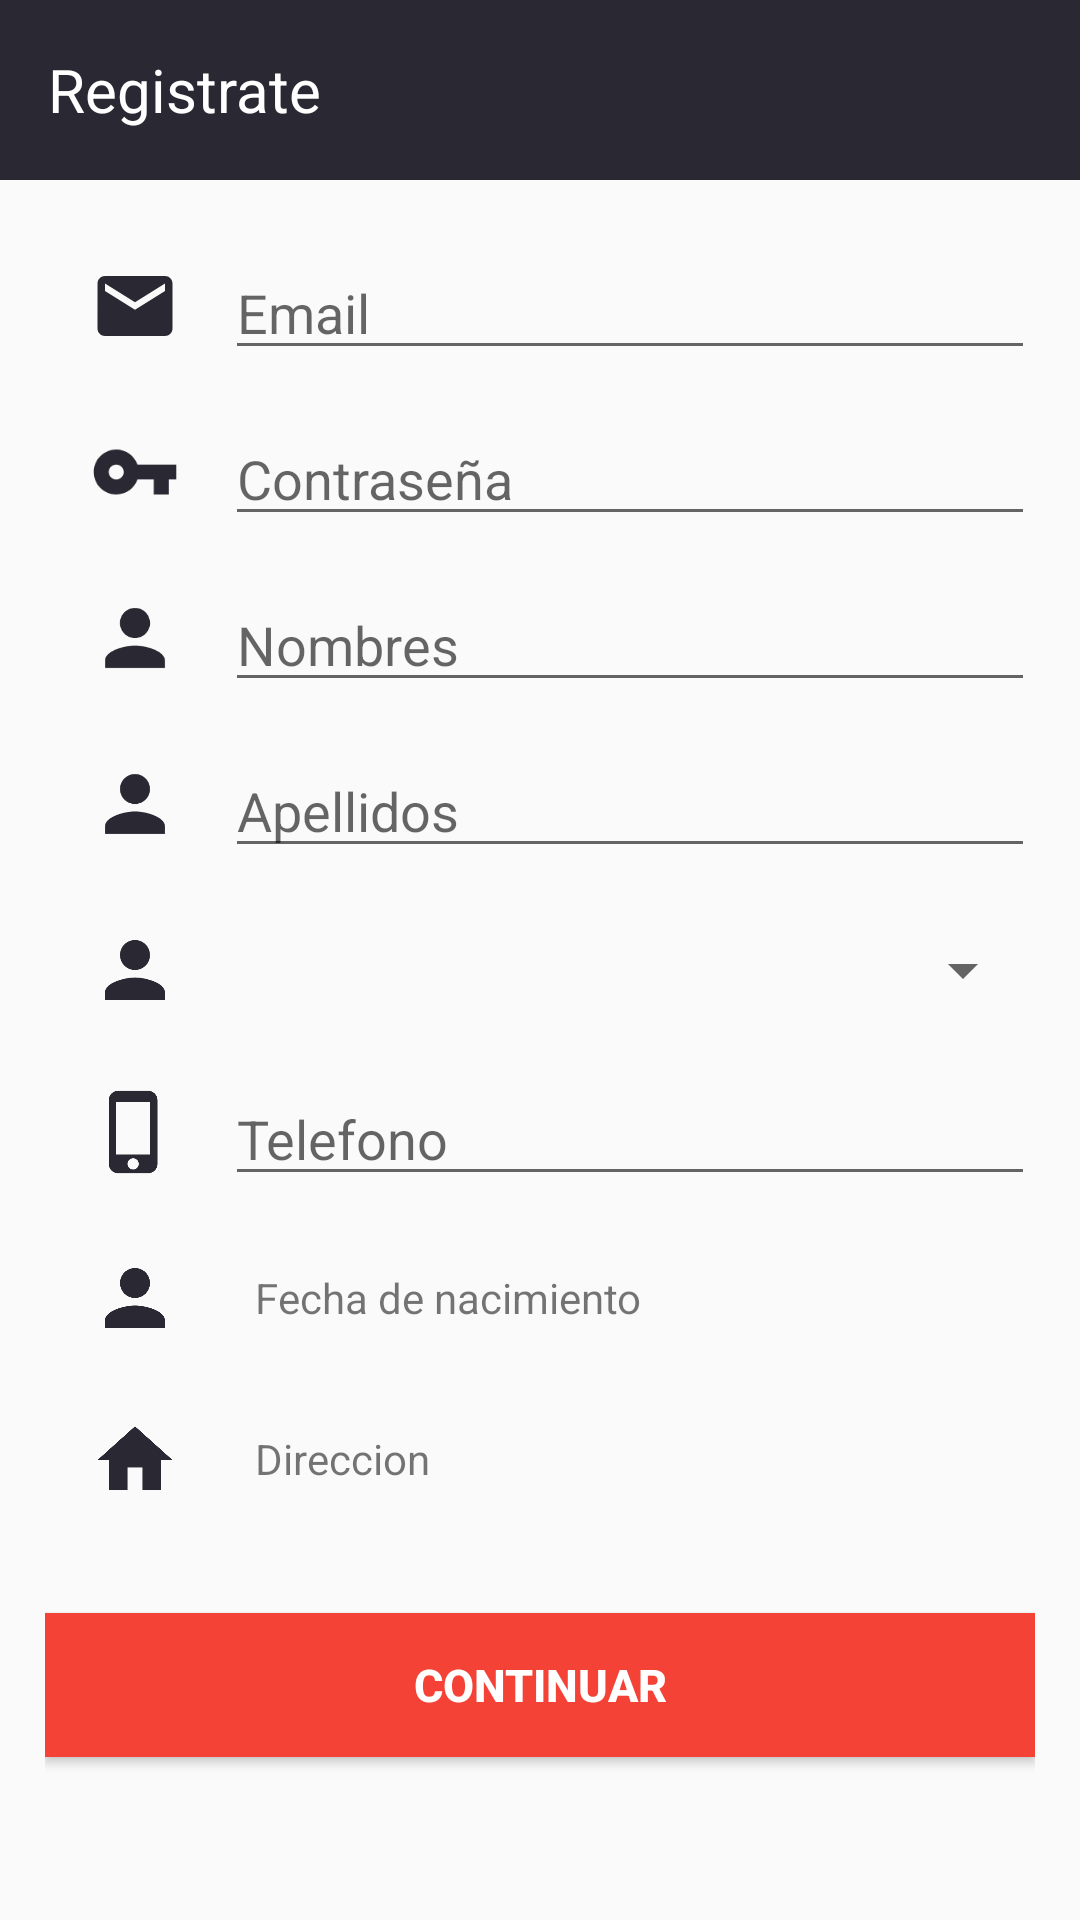

Named icons in this screenshot (1080x1920) and their centers, point (x, y):
home: point (135, 1458)
person: point (135, 638), point (135, 804), point (135, 970), point (135, 1298)
phone iphone: point (133, 1132)
vpn key: point (135, 472)
